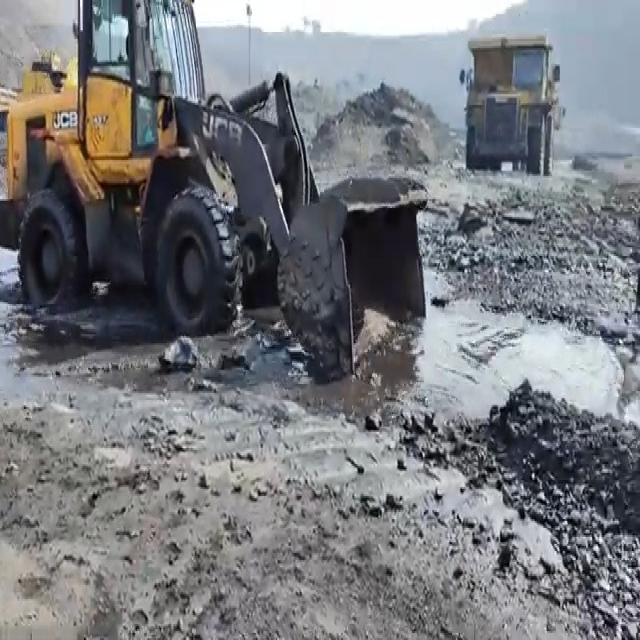buldozerpayloadergrader: (0, 0, 438, 374)
dump_truck: (460, 42, 567, 176)
